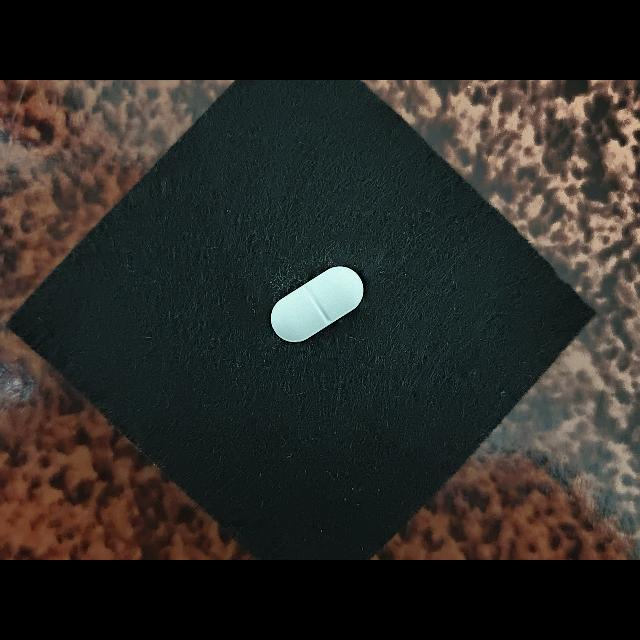Intact Pill: (271, 266, 364, 343)
